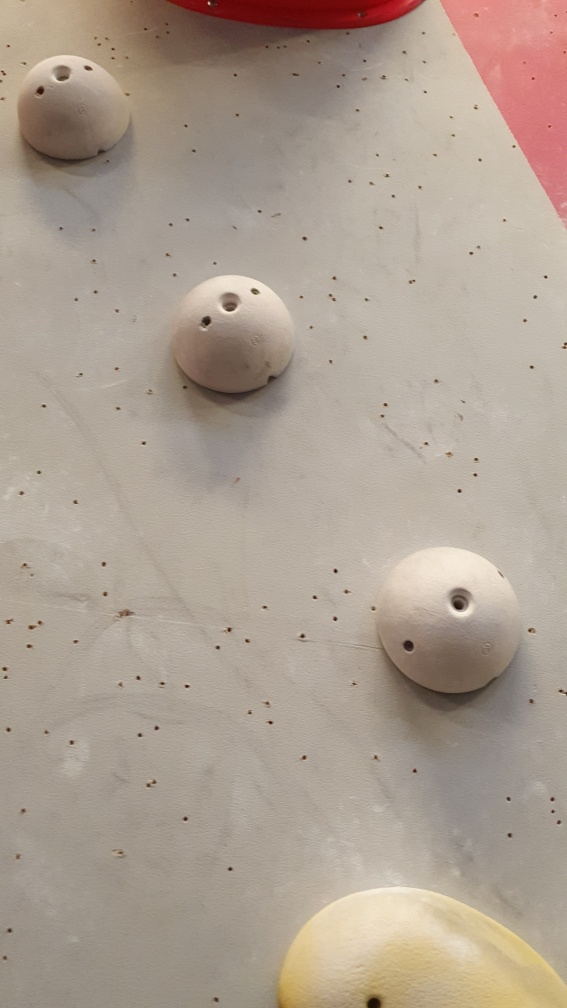Sloper: (380, 544, 523, 703), (174, 274, 296, 395), (16, 51, 133, 159)
